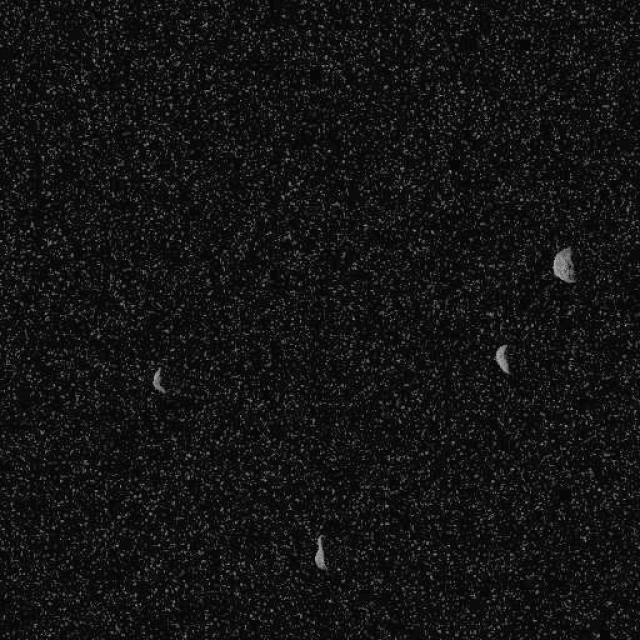D2: (552, 245, 576, 283), (312, 534, 328, 570), (494, 343, 511, 375), (152, 365, 166, 394)
